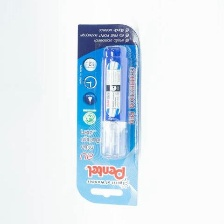book: (74, 22, 142, 207)
correction_fluid: (102, 44, 131, 160)
